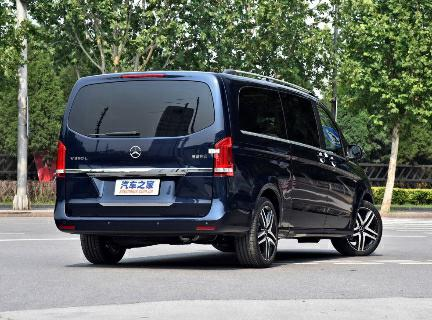奔驰-V级: (47, 60, 393, 271)
